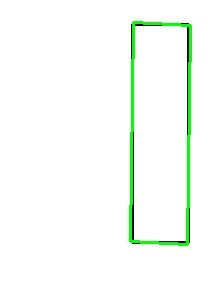line_segment: (130, 22, 191, 245)
